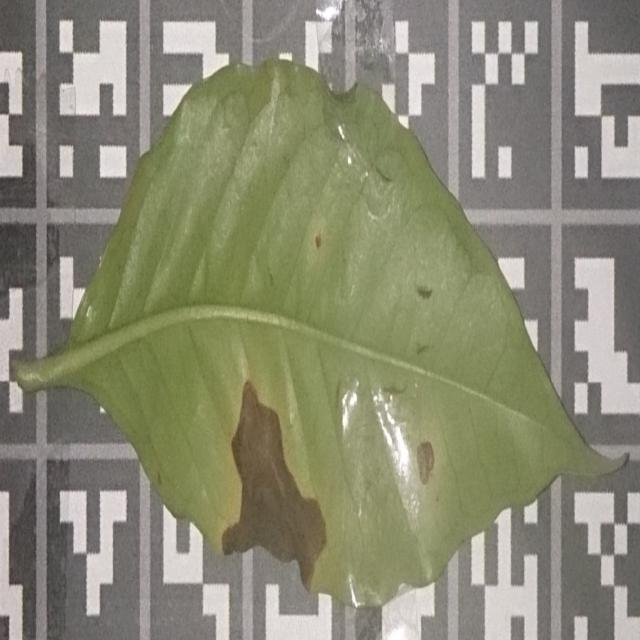Enfermedad-Mancha-de-hierro: (8, 55, 620, 612)
